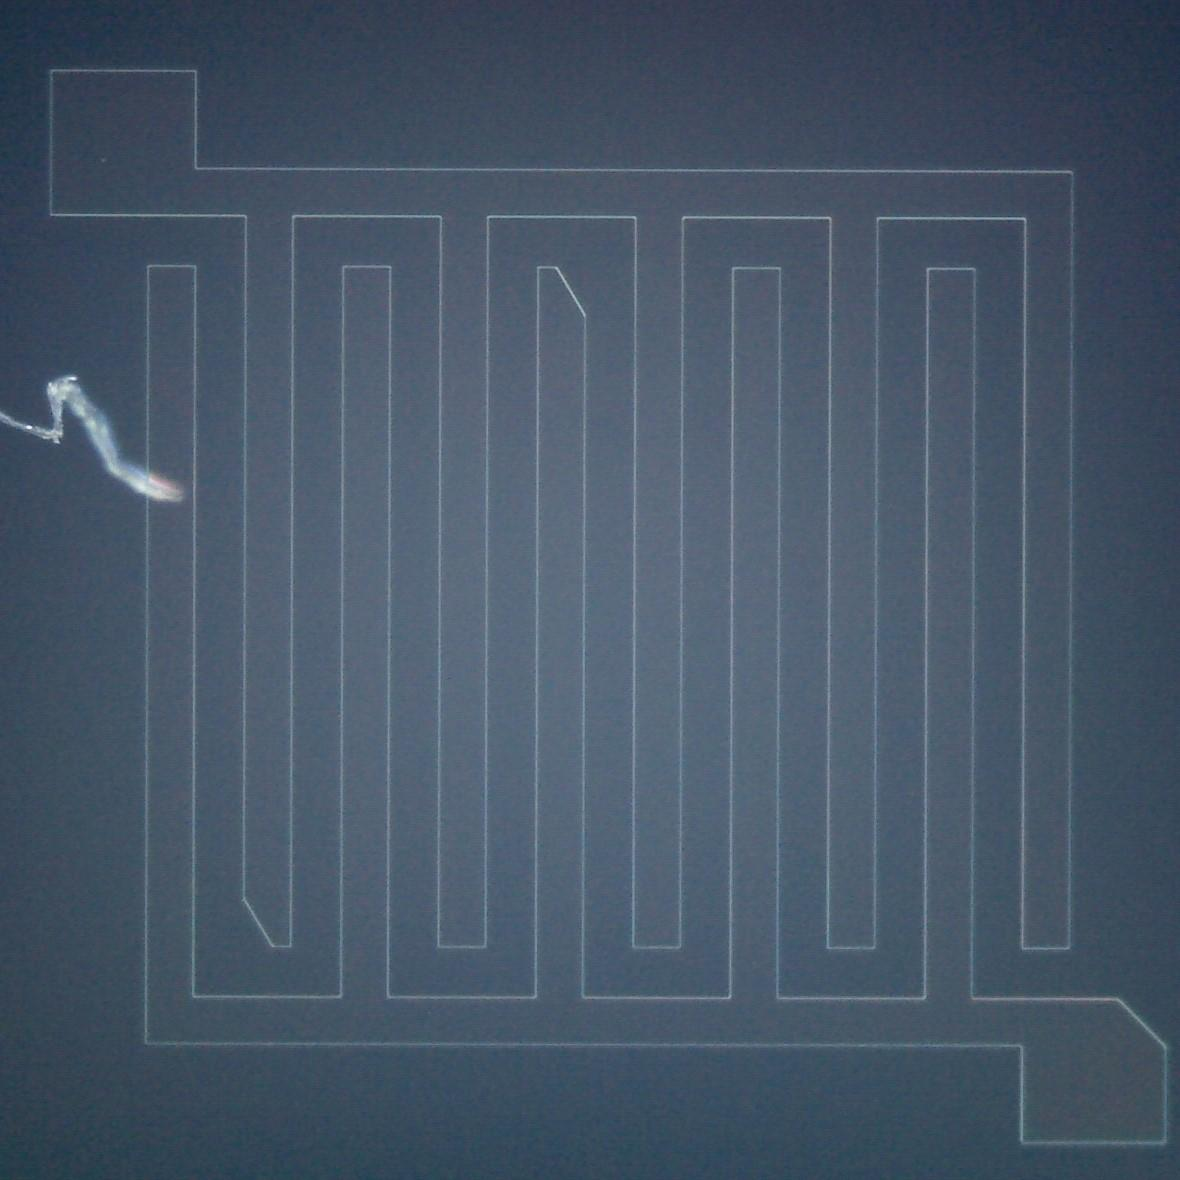cut: (519, 257, 611, 340), (229, 880, 307, 956), (1102, 985, 1171, 1065)
foreign: (0, 373, 187, 505)
